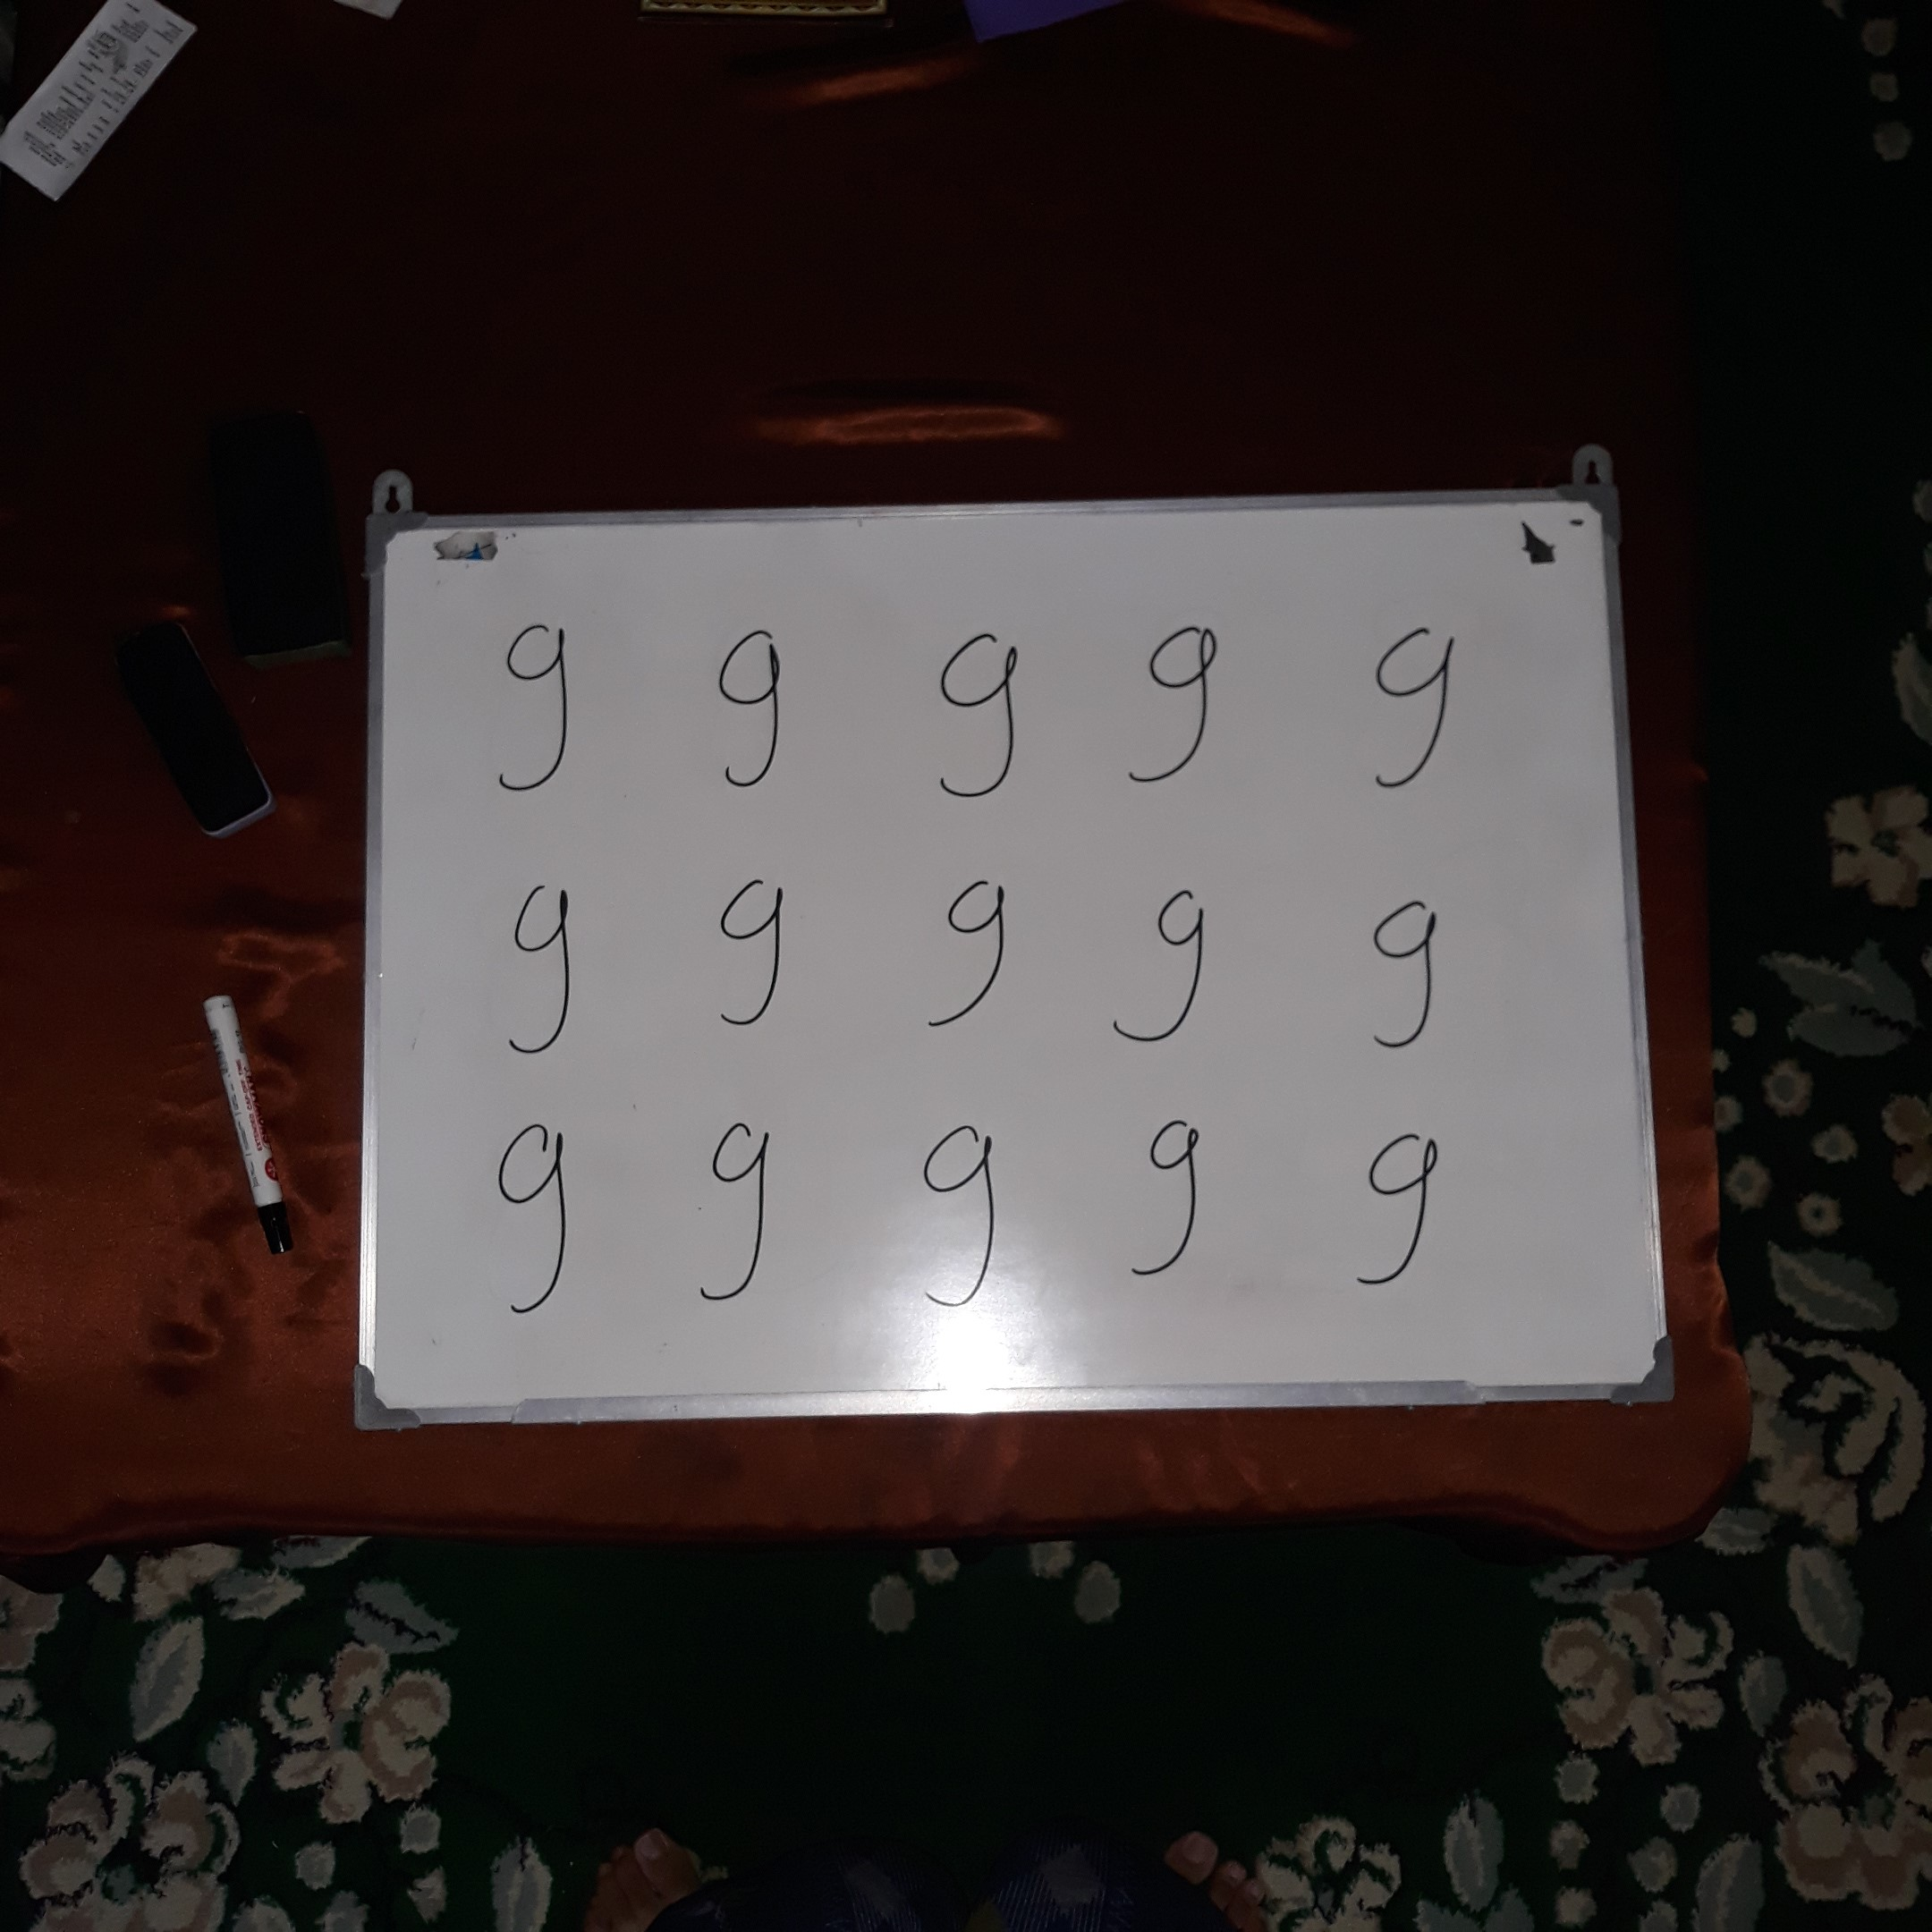num9: (908, 618, 1057, 823), (461, 1121, 600, 1337), (1087, 861, 1230, 1071), (675, 1100, 803, 1331), (1353, 608, 1491, 815), (1346, 875, 1474, 1088), (695, 860, 827, 1065), (479, 858, 604, 1078), (1331, 1121, 1474, 1309), (889, 1114, 1021, 1315), (476, 606, 600, 815), (1109, 614, 1245, 804), (1097, 1106, 1230, 1292), (908, 871, 1044, 1040), (703, 606, 809, 808)
